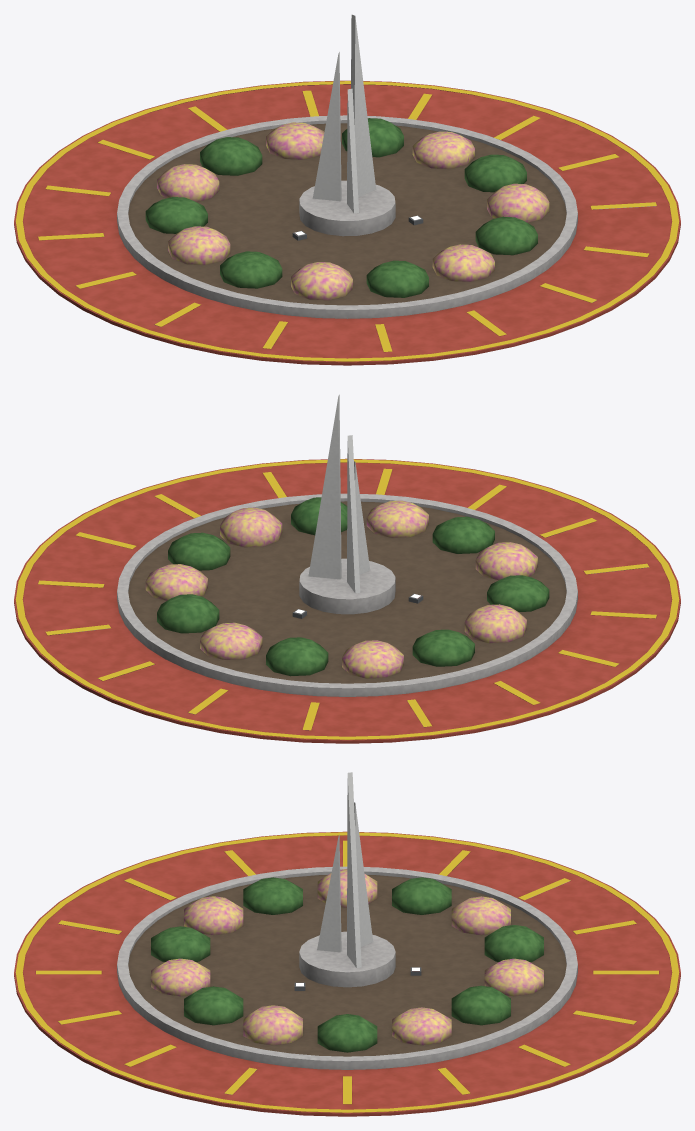
The model's file is IlsanRoundabout.fbx.
3 renders of one model, top to bottom at view 1: azimuth 30°, elevation 25°; view 2: azimuth 150°, elevation 25°; view 3: azimuth 270°, elevation 25°, orthographic.
Parts seen in each view (by area): view 1: IlsanRoundabout; view 2: IlsanRoundabout; view 3: IlsanRoundabout.
Boxes of the visible parts, x1,y1,x2,y2 form: IlsanRoundabout: [14, 14, 680, 365]; IlsanRoundabout: [14, 394, 680, 743]; IlsanRoundabout: [14, 772, 680, 1116].
Size of the model in its own units: 15.2 by 5.34 by 15.2.
1 material, 1 textured.
